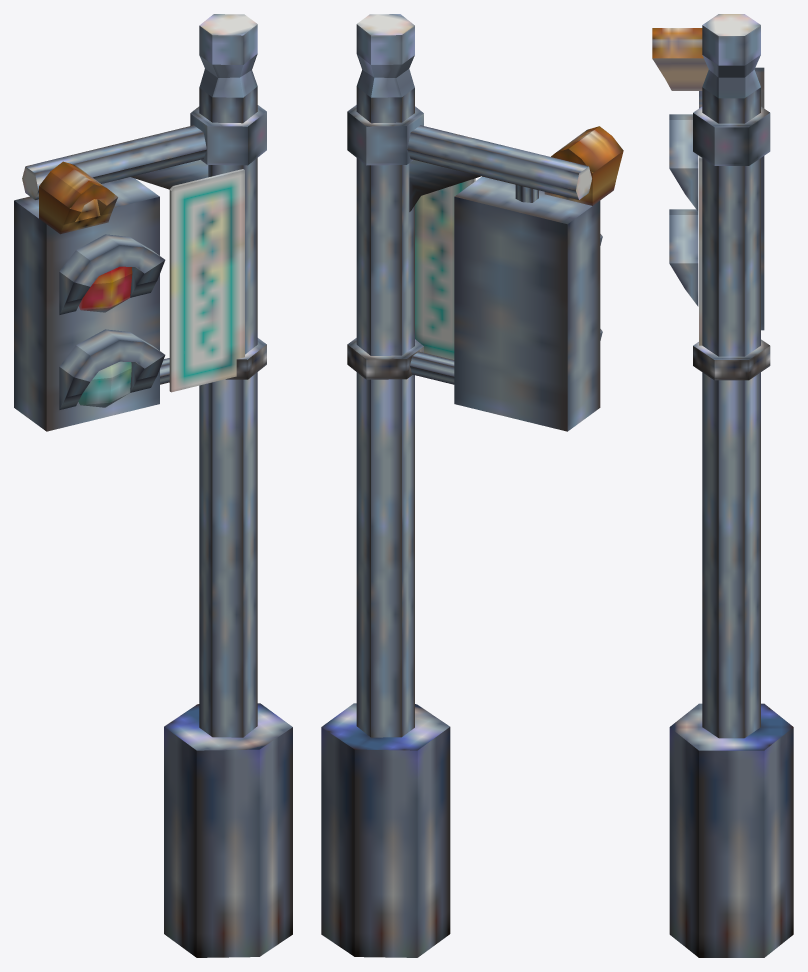
Rendered from Poly_SF_Outside_B_Traffic_Light_02.obj.
3 renders of one model, left to right at view 1: azimuth 30°, elevation 25°; view 2: azimuth 150°, elevation 25°; view 3: azimuth 270°, elevation 25°, orthographic.
Visible parts, largest first — view 1: Cube.001, Cube.002, Cube.006, Cube.003, Cube.005, Cube.004; view 2: Cube.001, Cube.002, Cube.006, Cube.005; view 3: Cube.001, Cube.003, Cube.005, Cube.002, Cube.006.
Part boxes in pixels (x1,y1,x2,y2): Cube.001: [22, 14, 292, 957]; Cube.002: [14, 177, 159, 431]; Cube.006: [131, 159, 244, 392]; Cube.003: [59, 234, 165, 409]; Cube.005: [39, 161, 117, 234]; Cube.004: [78, 266, 132, 407]; Cube.001: [321, 14, 591, 957]; Cube.002: [454, 176, 600, 431]; Cube.006: [409, 160, 480, 359]; Cube.005: [544, 126, 623, 205]; Cube.001: [669, 14, 793, 957]; Cube.003: [669, 114, 698, 306]; Cube.005: [652, 28, 708, 90]; Cube.002: [699, 67, 764, 330]; Cube.006: [699, 156, 702, 345].
Size of the model in its own units: 0.8703 by 3.07 by 0.4331.
1 material, 1 textured.
